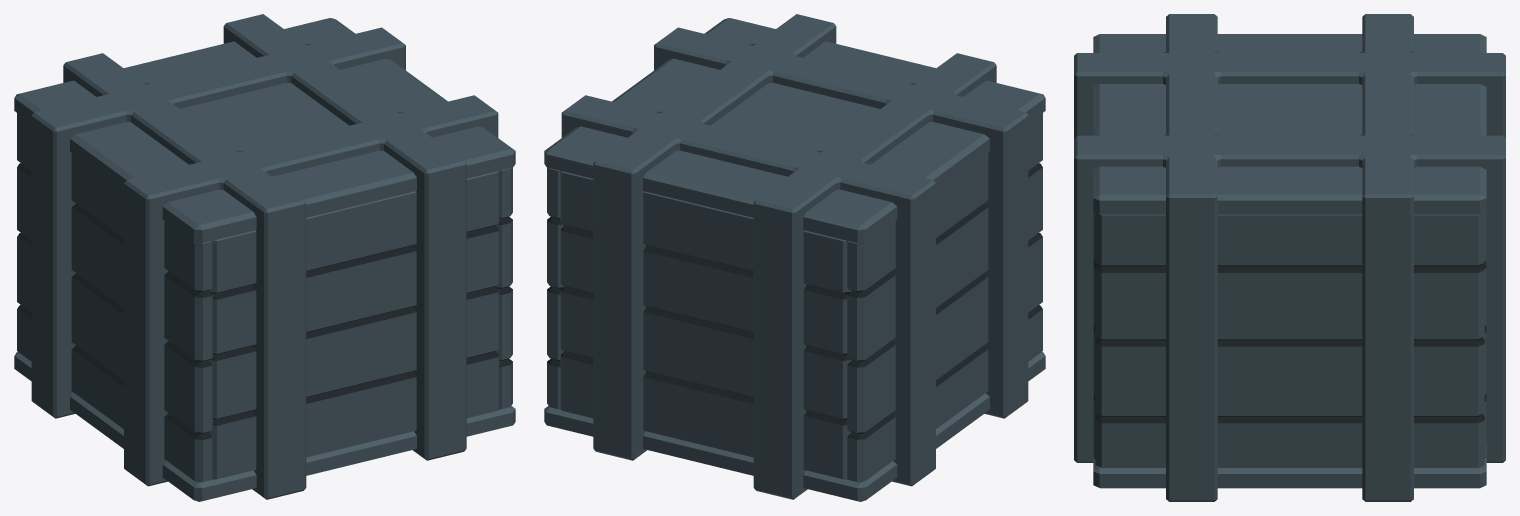
The model's file is GB_100_crate.glb.
The picture shows the model from 3 angles, left to right: view 1: azimuth 30°, elevation 25°; view 2: azimuth 150°, elevation 25°; view 3: azimuth 270°, elevation 25°; orthographic projection. The views are drawn at different scales.
Visible parts, largest first — view 1: Crate; view 2: Crate; view 3: Crate.
Part boxes in pixels (bbox=[...]): Crate: bbox=[14, 14, 515, 501]; Crate: bbox=[544, 14, 1045, 501]; Crate: bbox=[1074, 14, 1505, 501].
Size of the model in its own units: 1.53 by 1.21 by 1.53.
